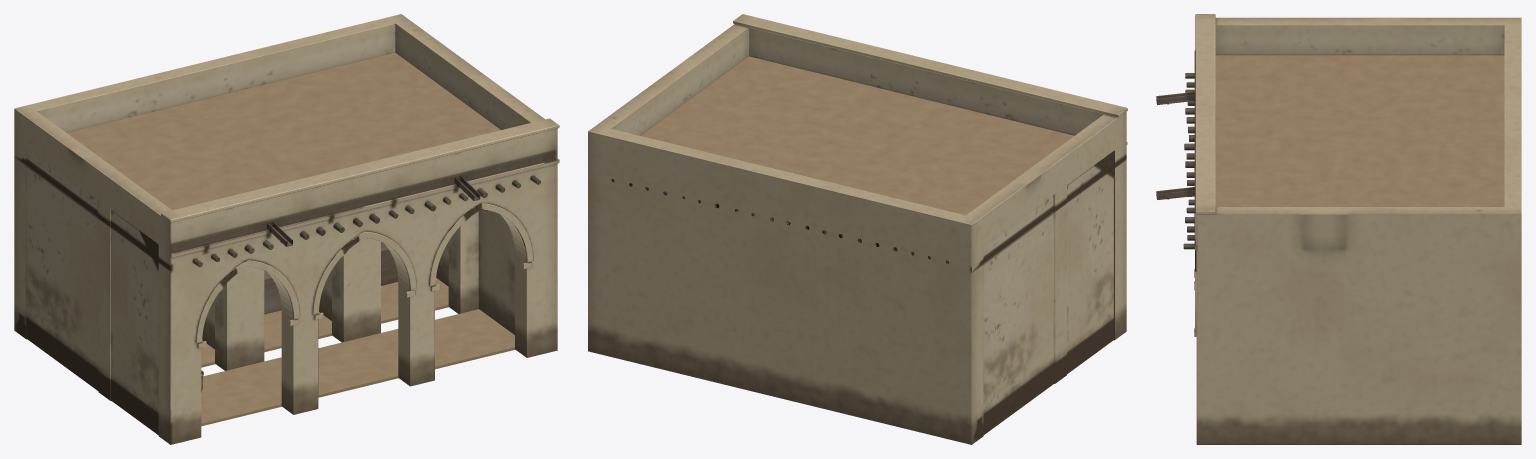
Rendered from souq_bldB.glb.
3 renders of one model, left to right at view 1: azimuth 30°, elevation 25°; view 2: azimuth 150°, elevation 25°; view 3: azimuth 270°, elevation 25°, orthographic. The views are drawn at different scales.
Visible parts, largest first — view 1: GX_bldB_LOD0; view 2: GX_bldB_LOD0; view 3: GX_bldB_LOD0.
Boxes of the visible parts, bbox=[...] form: GX_bldB_LOD0: bbox=[14, 14, 559, 444]; GX_bldB_LOD0: bbox=[588, 14, 1127, 444]; GX_bldB_LOD0: bbox=[1156, 14, 1521, 444].
Size of what is drawn, in the model's own units: 9.35 by 5.19 by 7.31.
2 materials, 1 textured.
